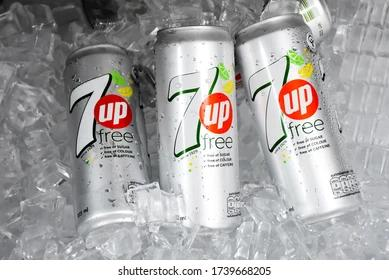metal: (234, 18, 363, 218), (152, 26, 241, 226), (65, 40, 153, 232)
